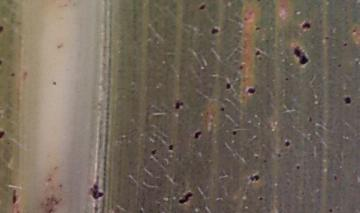tarspot: (89, 181, 105, 201), (293, 45, 308, 65), (178, 190, 194, 206), (10, 188, 18, 206), (192, 129, 203, 141), (173, 100, 185, 111), (248, 173, 261, 183), (342, 95, 352, 105), (300, 21, 311, 30), (246, 87, 257, 95), (197, 2, 206, 11), (253, 49, 262, 58), (282, 139, 291, 148), (209, 27, 219, 35), (331, 172, 339, 182), (54, 42, 64, 50), (1, 127, 7, 140), (167, 143, 175, 152), (148, 148, 157, 156), (218, 104, 226, 113), (224, 81, 232, 90), (228, 129, 238, 136), (307, 114, 313, 124), (254, 25, 261, 33), (283, 76, 291, 83), (341, 41, 348, 48), (51, 80, 58, 87), (238, 64, 244, 72), (294, 164, 302, 170), (322, 35, 330, 41), (9, 71, 15, 79), (351, 28, 357, 35), (277, 151, 282, 159), (336, 63, 342, 69), (327, 207, 333, 213), (258, 195, 264, 201), (262, 158, 268, 164), (253, 154, 259, 159), (1, 24, 4, 33), (1, 59, 3, 67)
